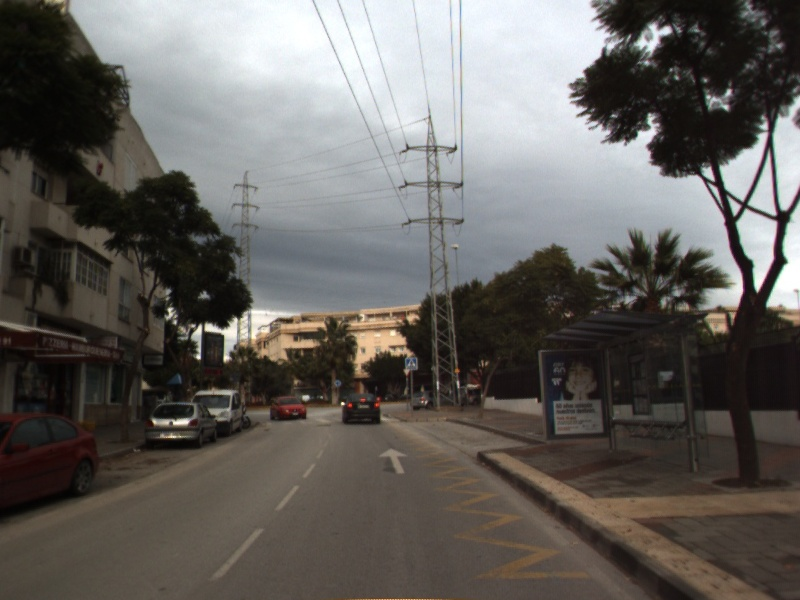STRAIGHT: (376, 446, 412, 476)
